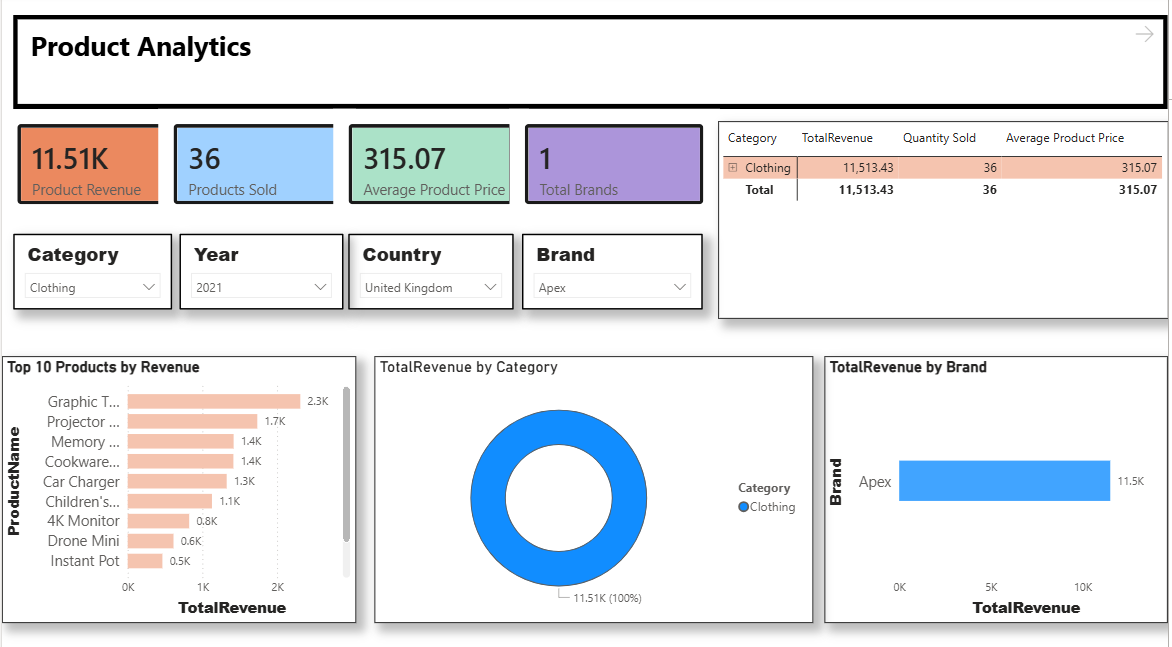

Layout of this report page (visuals, bound fields, positions):
{"tool":"powerbi","page":{"name":"Product Analytics","canvas":[1280,720],"ordinal":1},"visuals":[{"type":"cardVisual","fields":{"Data":["amazonanalytics amazonsales.Product Revenue"]},"box":[0,124.3,202.9,122.9],"z":0},{"type":"textSlicer","box":[12.9,21.4,1267.1,102.9],"z":1000},{"type":"cardVisual","fields":{"Data":["amazonanalytics amazonsales.Products Sold"]},"box":[171.4,124.3,217.1,122.9],"z":2000},{"type":"cardVisual","fields":{"Data":["amazonanalytics amazonsales.Average Product Price"]},"box":[364.3,124.3,214.3,122.9],"z":3000},{"type":"cardVisual","fields":{"Data":["amazonanalytics amazonsales.Total Brands"]},"box":[557.1,124.3,230,122.9],"z":4000},{"type":"clusteredBarChart","title":"Top 10 Products by Revenue","fields":{"Y":["amazonanalytics amazonsales.TotalRevenue"],"Category":["amazonanalytics amazonsales.ProductName"]},"box":[0,397.1,388.6,292.9],"z":5000},{"type":"clusteredBarChart","fields":{"Category":["amazonanalytics amazonsales.Brand"],"Y":["amazonanalytics amazonsales.TotalRevenue"]},"box":[902.9,397.1,377.1,292.9],"z":6000},{"type":"donutChart","fields":{"Category":["amazonanalytics amazonsales.Category"],"Y":["amazonanalytics amazonsales.TotalRevenue"]},"box":[408.6,397.1,481.4,292.9],"z":7000},{"type":"pivotTable","fields":{"Rows":["amazonanalytics amazonsales.Category","amazonanalytics amazonsales.ProductName"],"Values":["amazonanalytics amazonsales.TotalRevenue","amazonanalytics amazonsales.Quantity Sold","amazonanalytics amazonsales.Average Product Price"]},"box":[785.7,138.6,494.3,217.1],"z":8000},{"type":"slicer","fields":{"Values":["amazonanalytics amazonsales.Category"]},"box":[12.9,261.4,174.3,82.9],"z":9000},{"type":"slicer","fields":{"Values":["amazonanalytics amazonsales.Country"]},"box":[380,261.4,181.4,82.9],"z":10000},{"type":"slicer","fields":{"Values":["amazonanalytics amazonsales.OrderDate_New.Variation.Date Hierarchy.Year"]},"box":[194.3,261.4,180,82.9],"z":11000},{"type":"slicer","fields":{"Values":["amazonanalytics amazonsales.Brand"]},"box":[571.4,261.4,198.6,82.9],"z":12000}]}

Visuals, with their boxes in screenshot pixels (x1, y1, x2, y2), scaled from the page's 1280x720 canvas onto the 1172x647 screenshot:
cardVisual - amazonanalytics amazonsales.Product Revenue: pyautogui.locateOnScreen(0, 112, 186, 222)
textSlicer: pyautogui.locateOnScreen(12, 19, 1171, 112)
cardVisual - amazonanalytics amazonsales.Products Sold: pyautogui.locateOnScreen(157, 112, 356, 222)
cardVisual - amazonanalytics amazonsales.Average Product Price: pyautogui.locateOnScreen(334, 112, 530, 222)
cardVisual - amazonanalytics amazonsales.Total Brands: pyautogui.locateOnScreen(510, 112, 721, 222)
"Top 10 Products by Revenue" clusteredBarChart: pyautogui.locateOnScreen(0, 357, 356, 620)
clusteredBarChart - amazonanalytics amazonsales.Brand x amazonanalytics amazonsales.TotalRevenue: pyautogui.locateOnScreen(827, 357, 1171, 620)
donutChart - amazonanalytics amazonsales.Category x amazonanalytics amazonsales.TotalRevenue: pyautogui.locateOnScreen(374, 357, 815, 620)
pivotTable - amazonanalytics amazonsales.Category x amazonanalytics amazonsales.ProductName: pyautogui.locateOnScreen(719, 125, 1171, 320)
slicer - amazonanalytics amazonsales.Category: pyautogui.locateOnScreen(12, 235, 171, 309)
slicer - amazonanalytics amazonsales.Country: pyautogui.locateOnScreen(348, 235, 514, 309)
slicer - amazonanalytics amazonsales.OrderDate_New.Variation.Date Hierarchy.Year: pyautogui.locateOnScreen(178, 235, 343, 309)
slicer - amazonanalytics amazonsales.Brand: pyautogui.locateOnScreen(523, 235, 705, 309)
